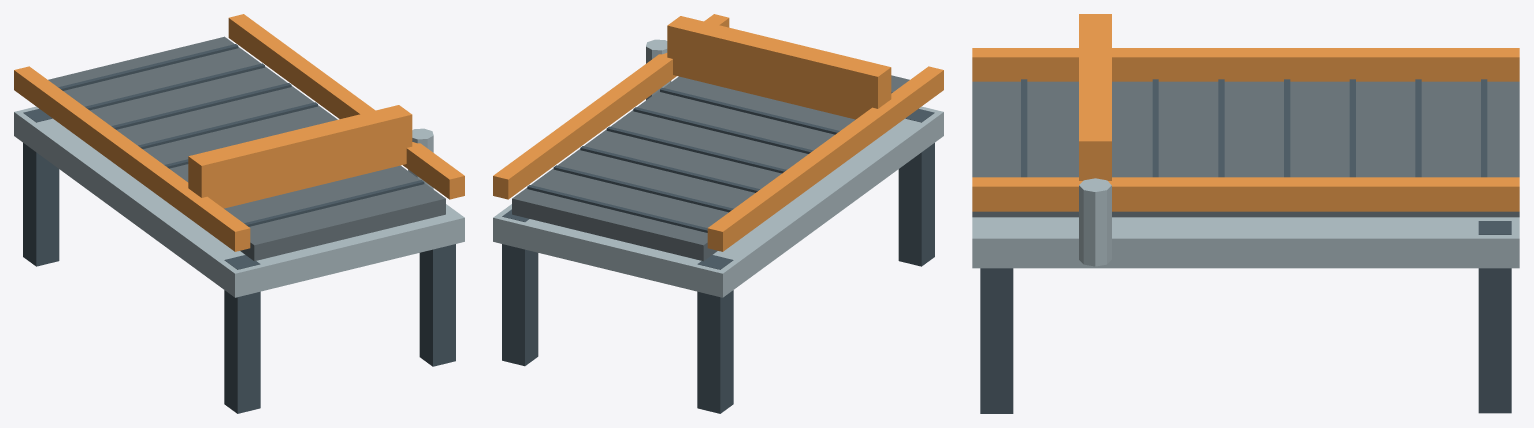
File: retractable-conveyor-stop.glb
3 views of the same model, side by side, from view 1: azimuth 30°, elevation 25°; view 2: azimuth 150°, elevation 25°; view 3: azimuth 270°, elevation 25° (orthographic). The views are drawn at different scales.
Visible parts, largest first — view 1: orange, rubber, dark, steel; view 2: rubber, orange, dark, steel; view 3: rubber, orange, steel, dark.
Part boxes in pixels (<box>): orange: <box>14,14,464,251</box>; rubber: <box>48,36,445,261</box>; dark: <box>23,44,455,413</box>; steel: <box>14,106,464,297</box>; rubber: <box>512,75,909,261</box>; orange: <box>493,14,943,251</box>; dark: <box>502,87,934,413</box>; steel: <box>493,39,943,297</box>; rubber: <box>972,81,1519,217</box>; orange: <box>972,14,1519,211</box>; steel: <box>972,178,1519,268</box>; dark: <box>980,79,1511,413</box>.
Bounding box in the file's own units: 1.29 × 1.09 × 2.
